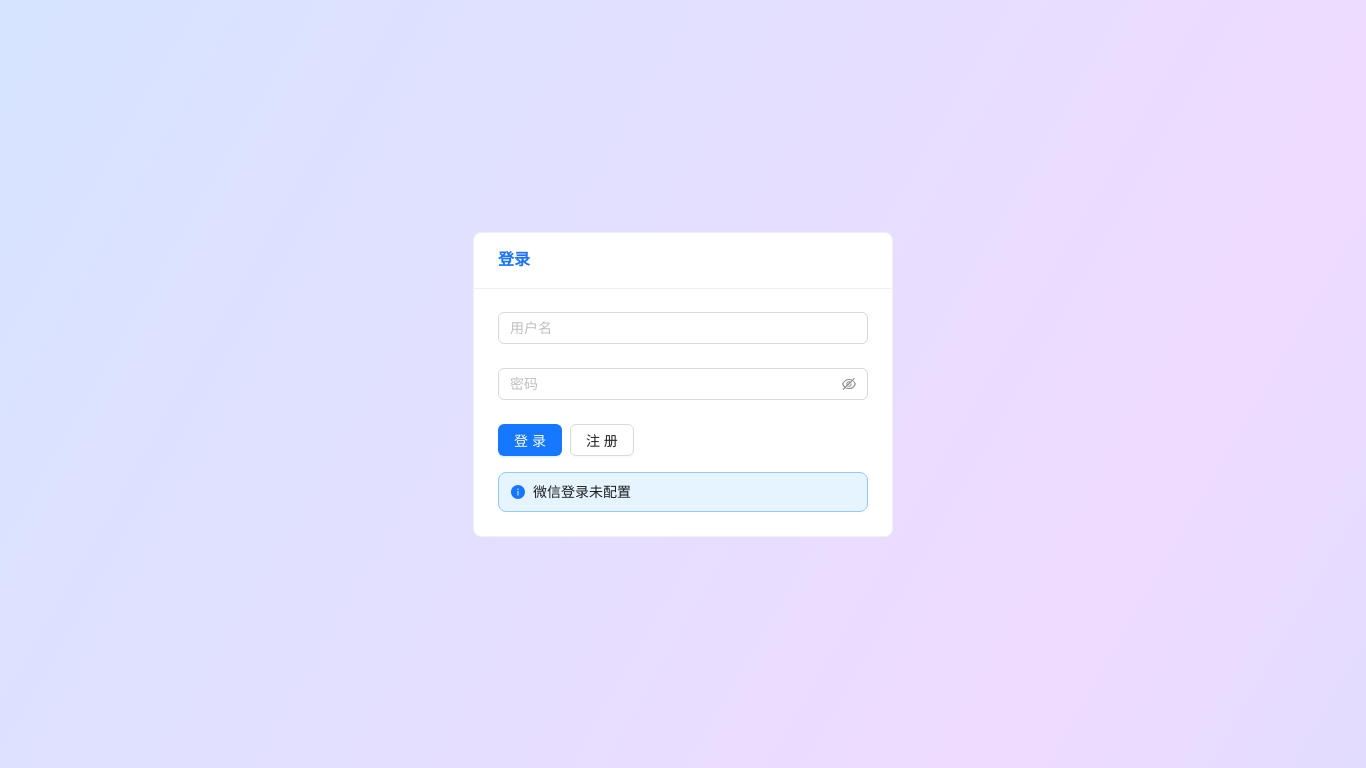
Test case: portal login › shows the server reason when registration is rejected
Click the button with test id "platform/login/register" at (602, 440), box [570,424,634,456]
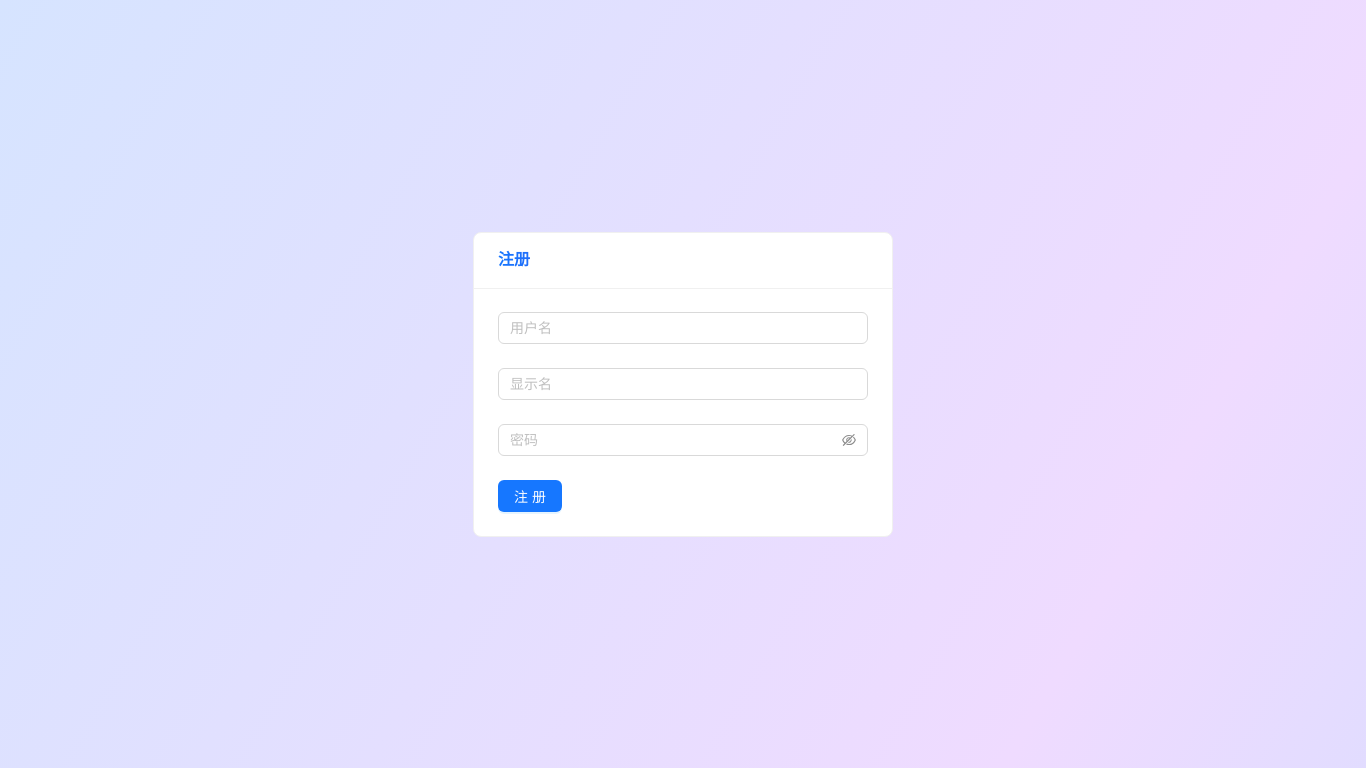
Type "newuser" into the field with test id "platform/register/username" at (683, 328), box [498,312,868,344]
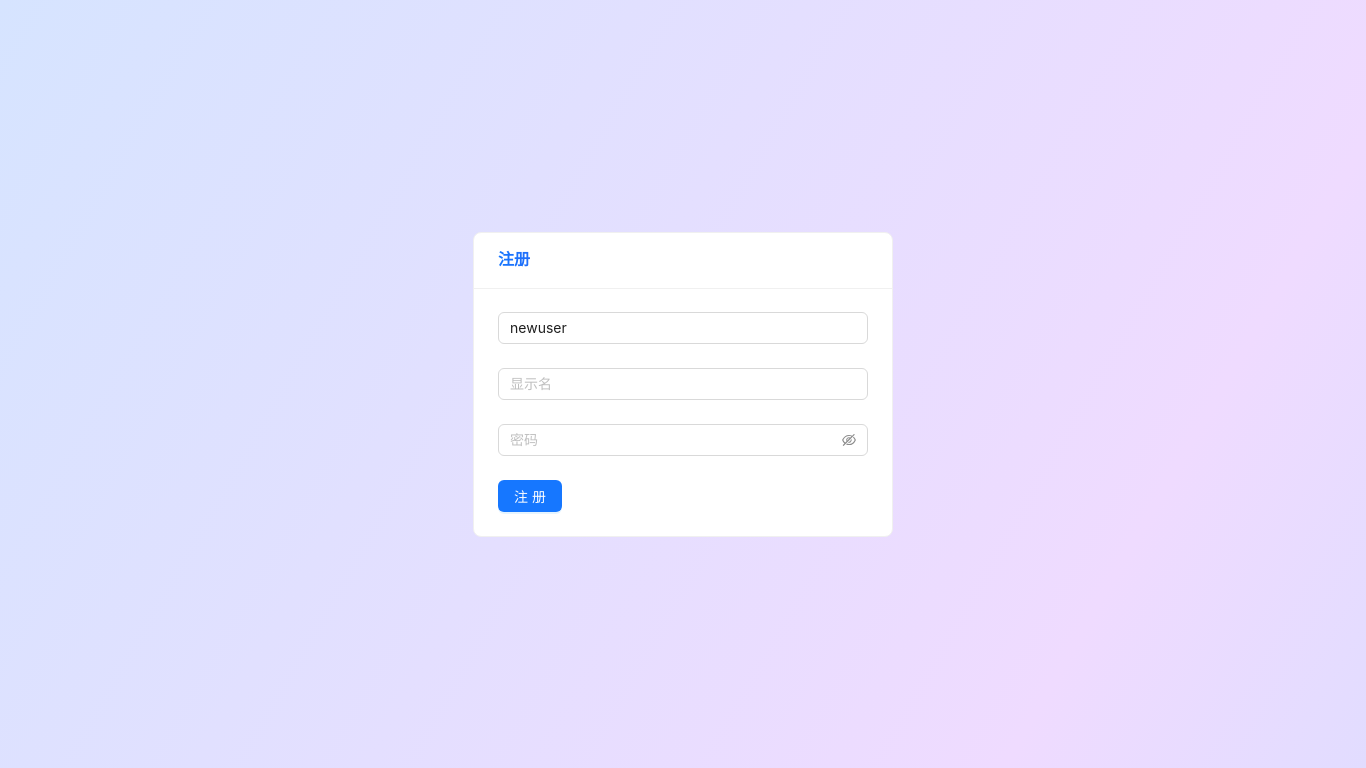
Type "新用户" into the field with test id "platform/register/display-name" at (683, 384), box [498,368,868,400]
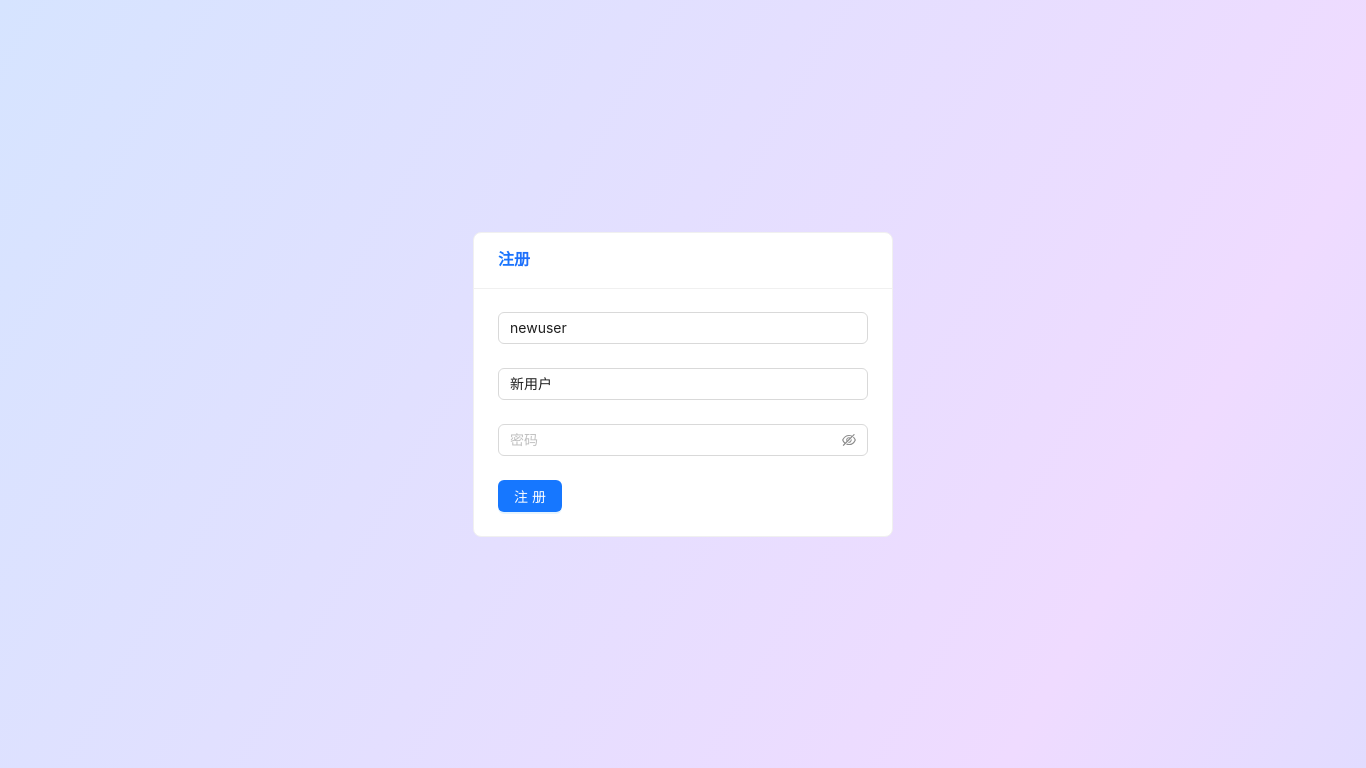
Type "secret" into the password field with test id "platform/register/password" at (674, 440), box [510,428,838,450]
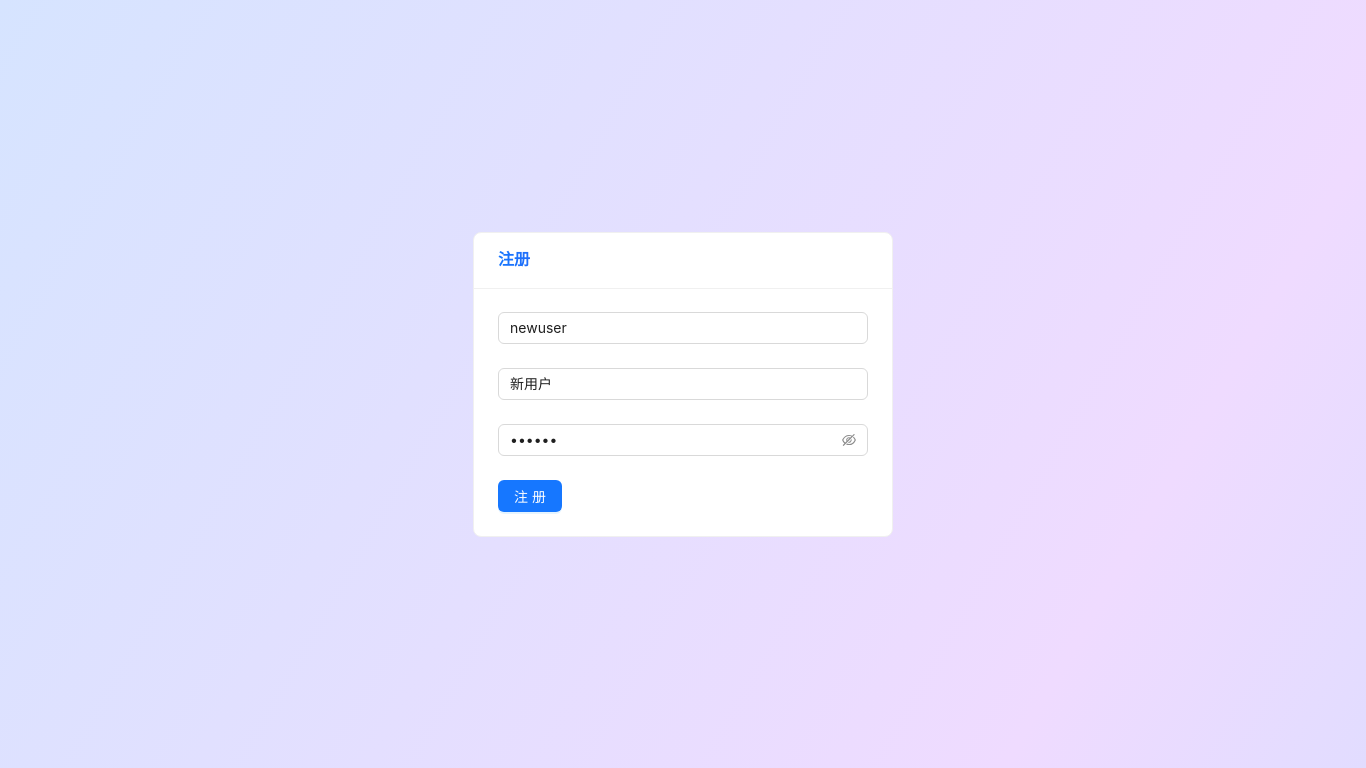
Click the button with test id "platform/register/submit" at (530, 496), box [498,480,562,512]
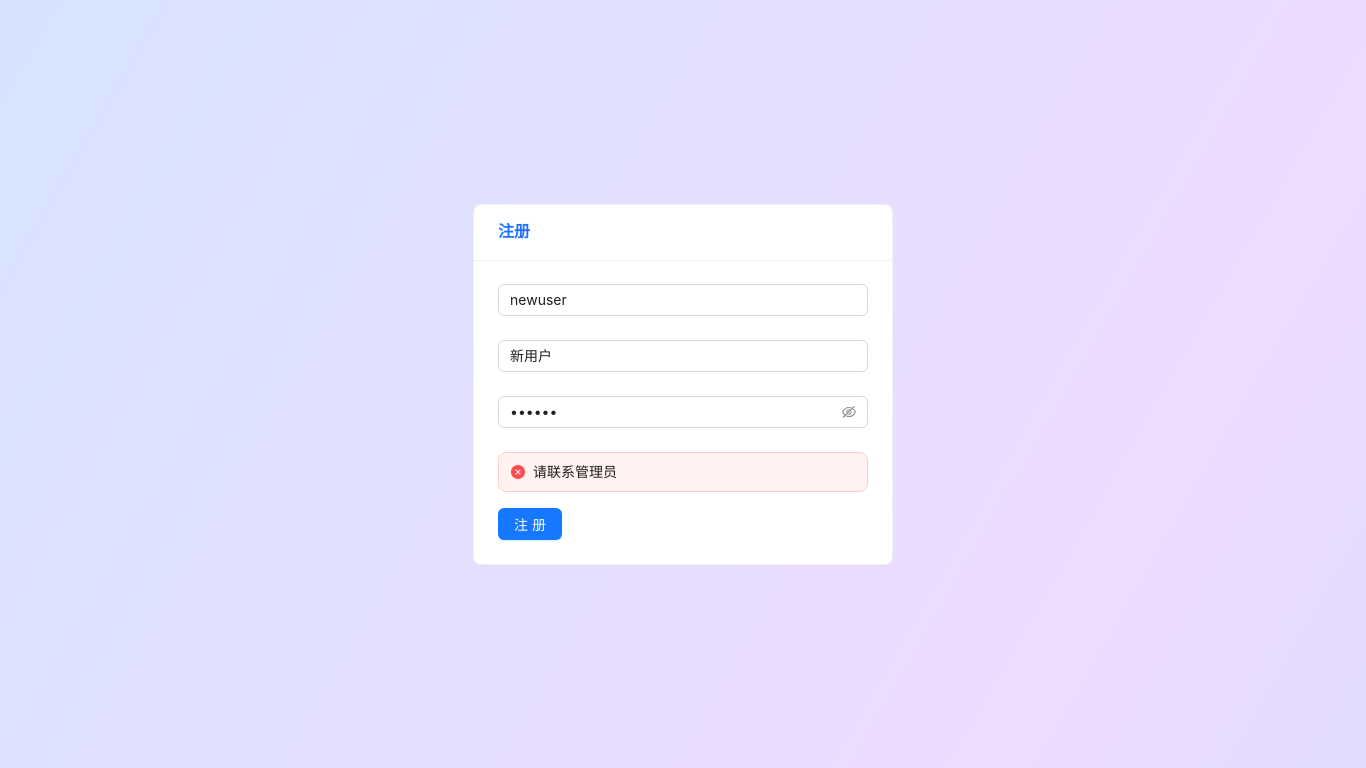
Result: the text "请联系管理员" is shown at [533,462,617,480]
